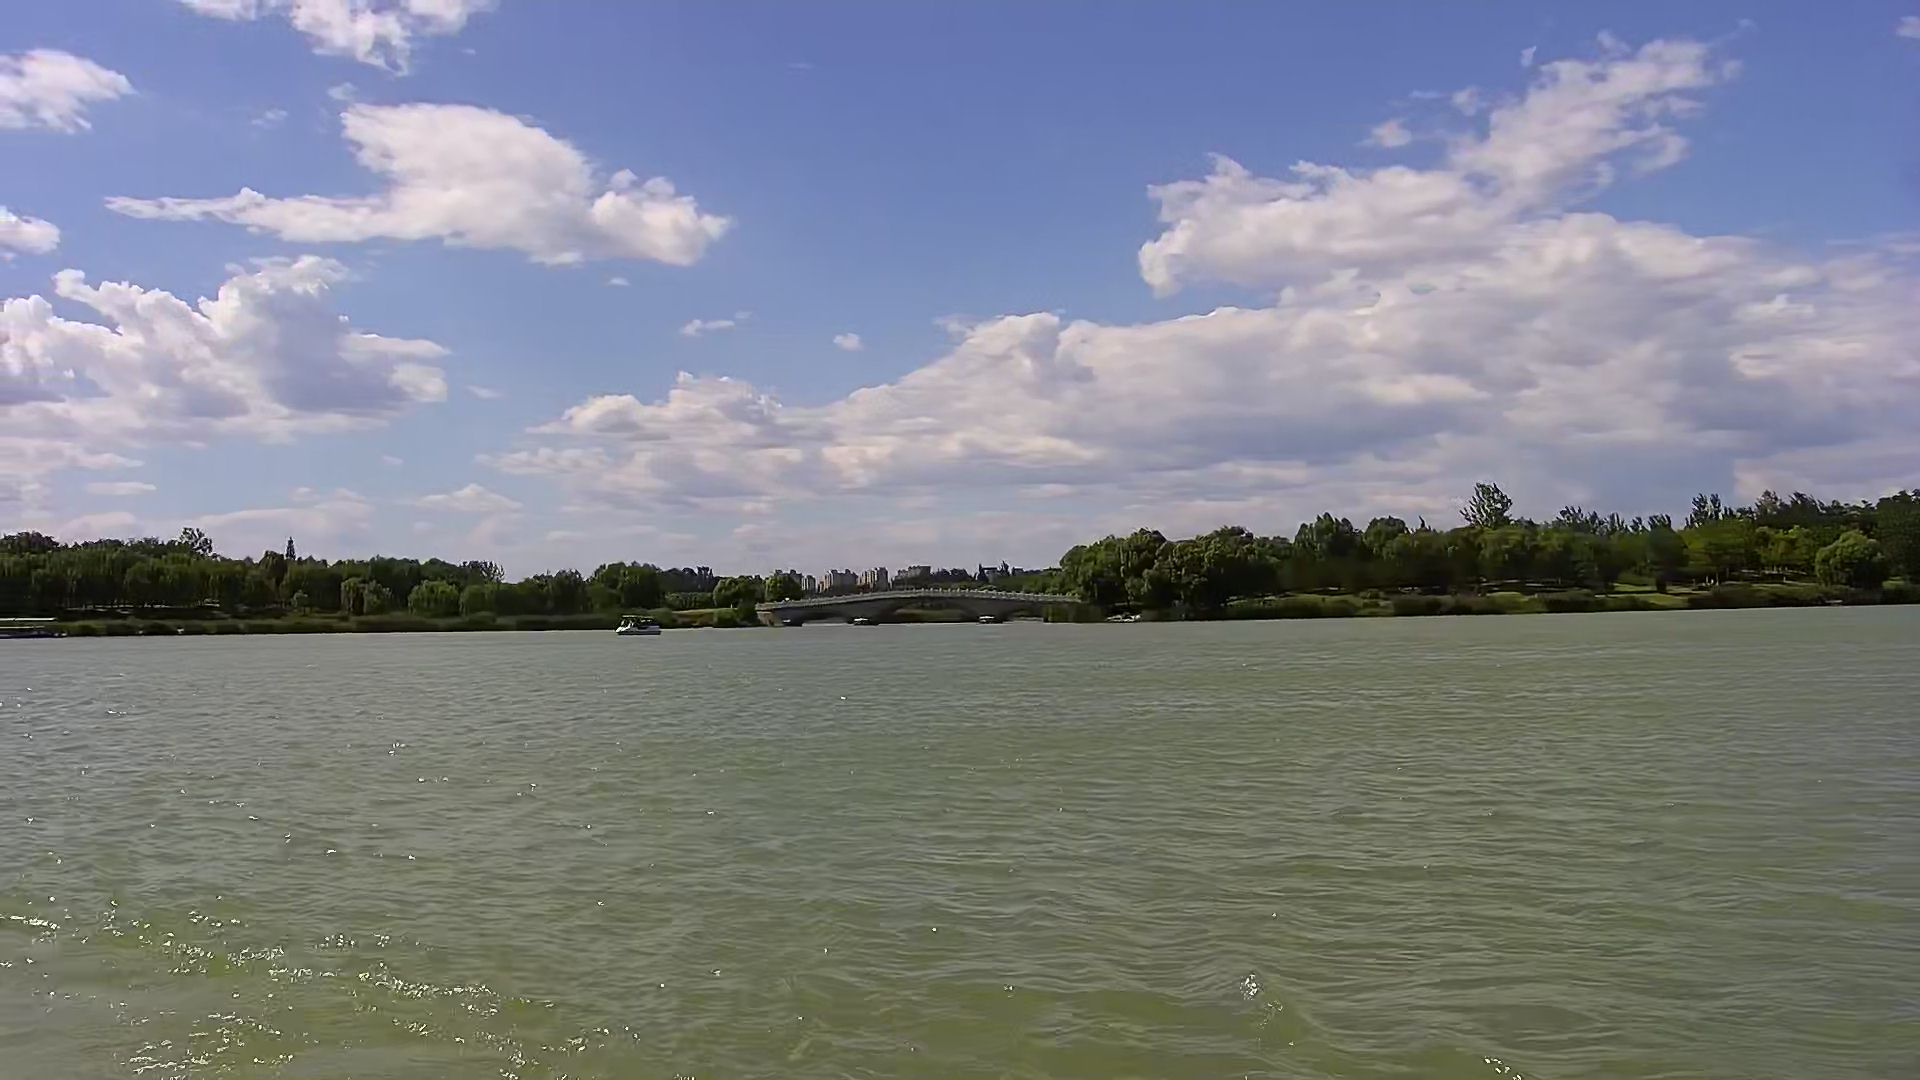boat: (616, 611, 662, 636)
bridge: (750, 592, 1081, 626)
